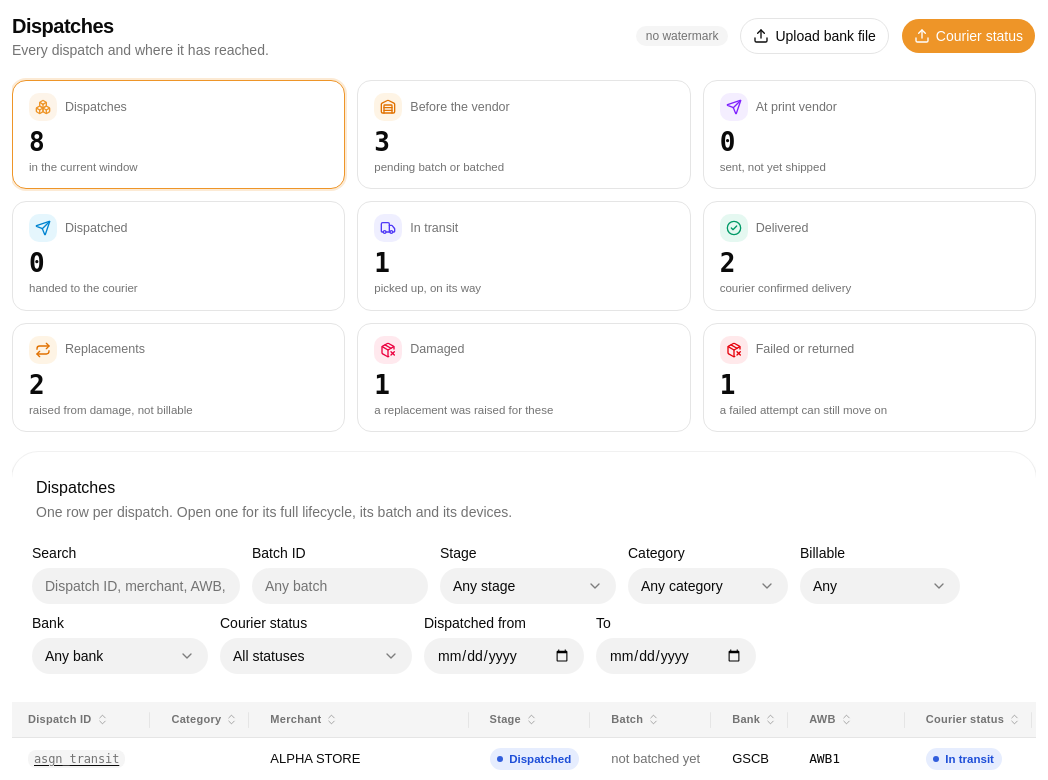
Scenario: The dispatch list: tiles, toolbar and links › keeps exactly one tile active across the stage, status and billable axes
Check: the text "ALPHA STORE" is shown, box [270,750,360,769]
Click the button "pending batch or batched" at (460, 107), box [357,80,691,189]
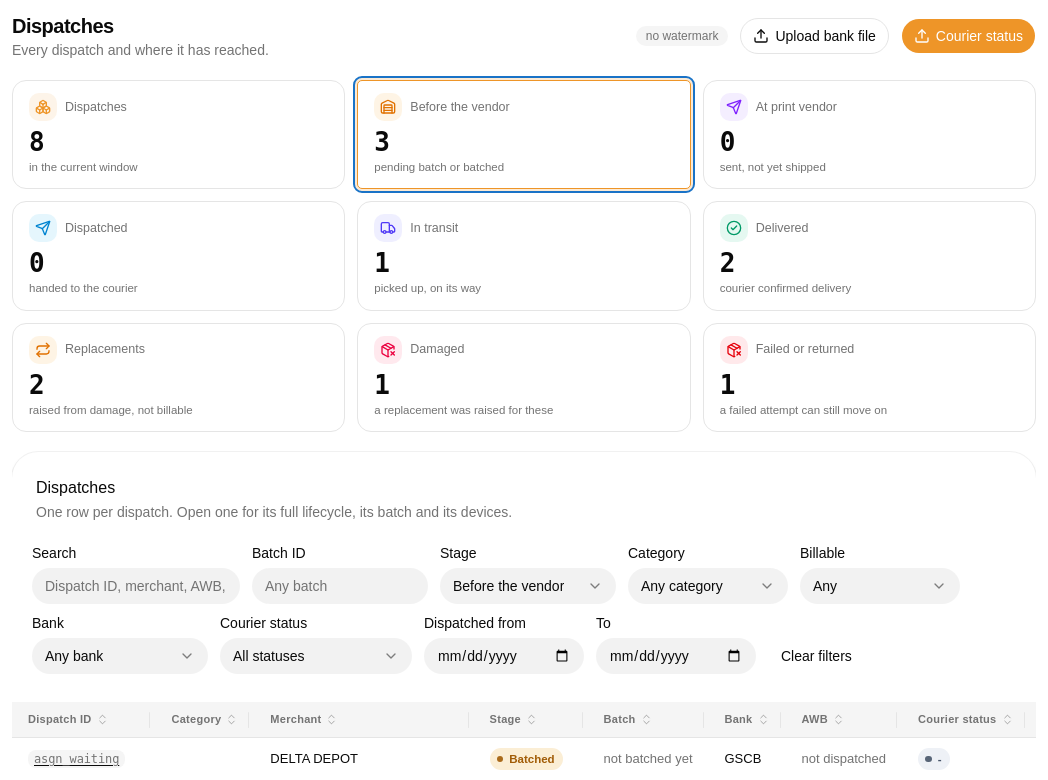
// A different axis entirely: the stage selection must clear.
Click the button "raised from damage, not billable" at (105, 349), box [12,322,345,432]
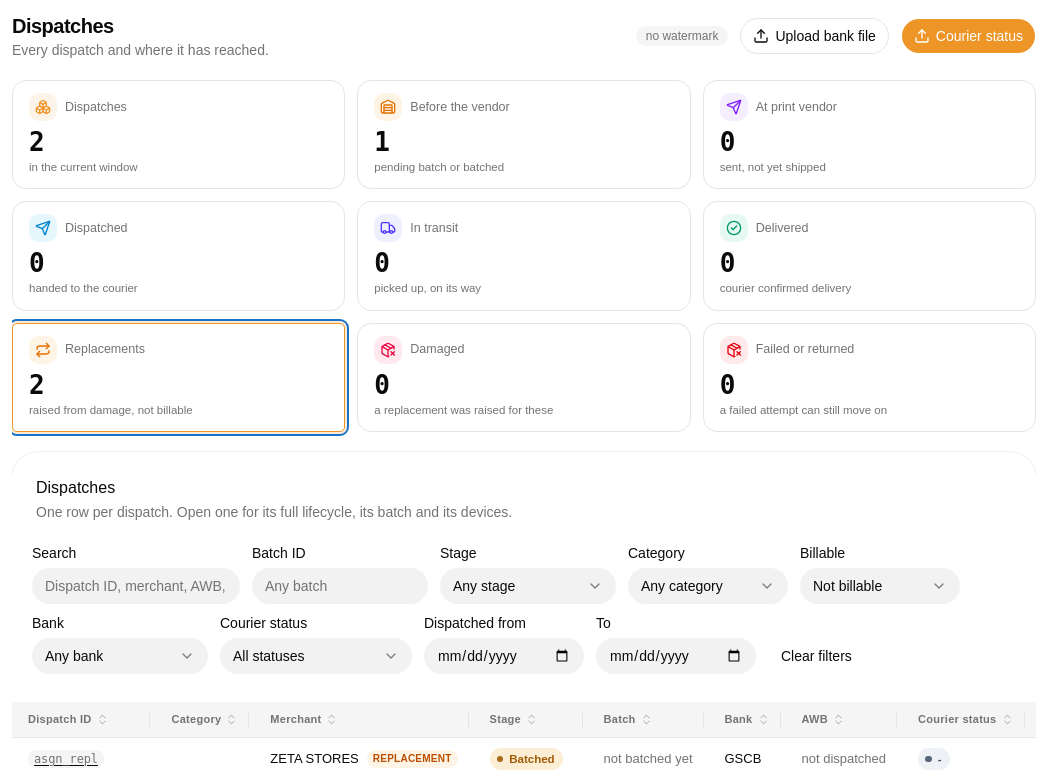
// And back to a courier tile, clearing billable.
Click the button "Delivered 0 courier confirmed delivery" at (782, 228), box [703,201,1036,311]
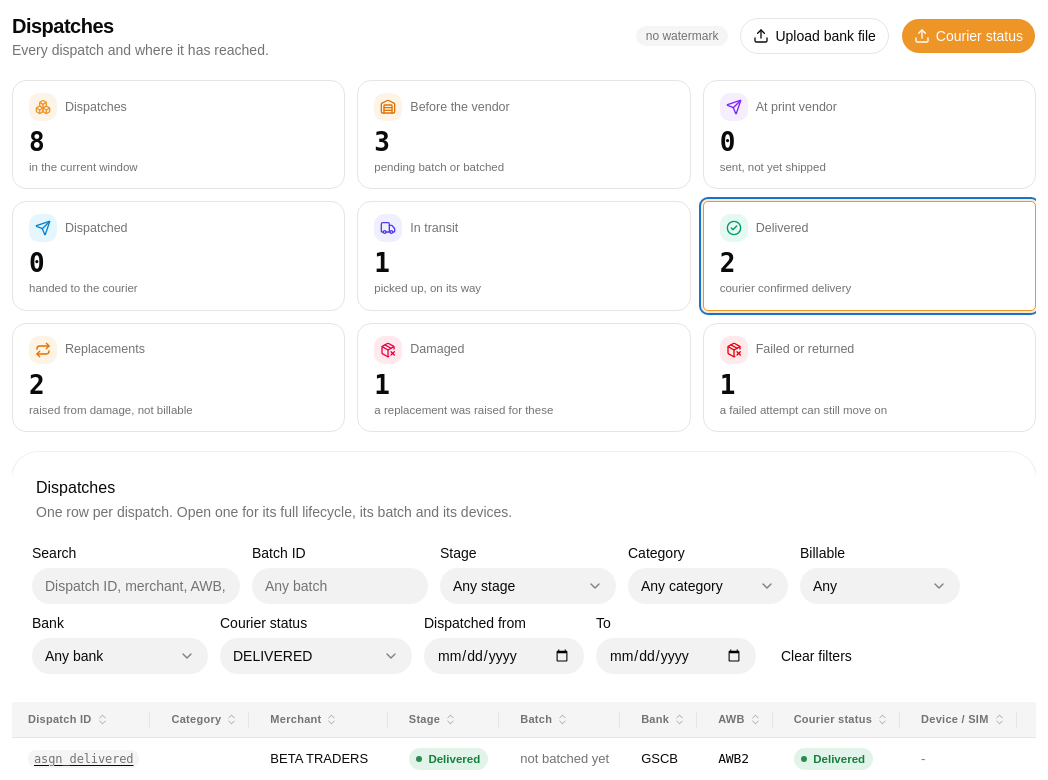
Check: the text "BETA TRADERS" is shown, box [270,750,368,769]
Check: the text "ZETA STORES" is gone
